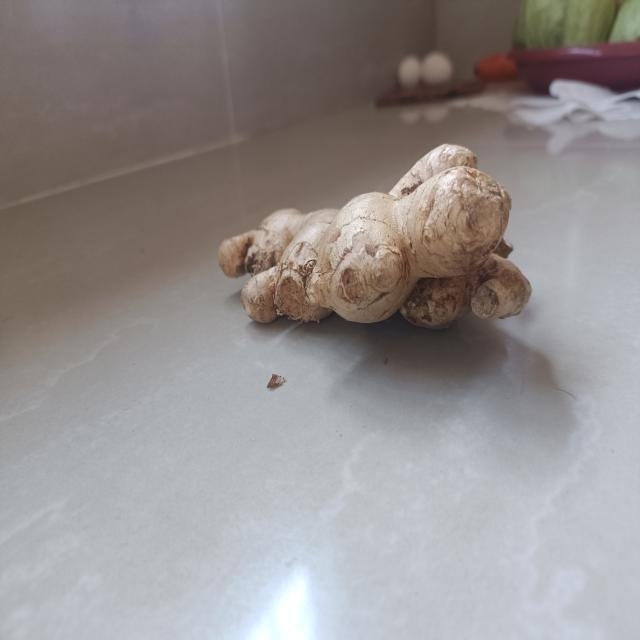ginger: (218, 140, 532, 349)
